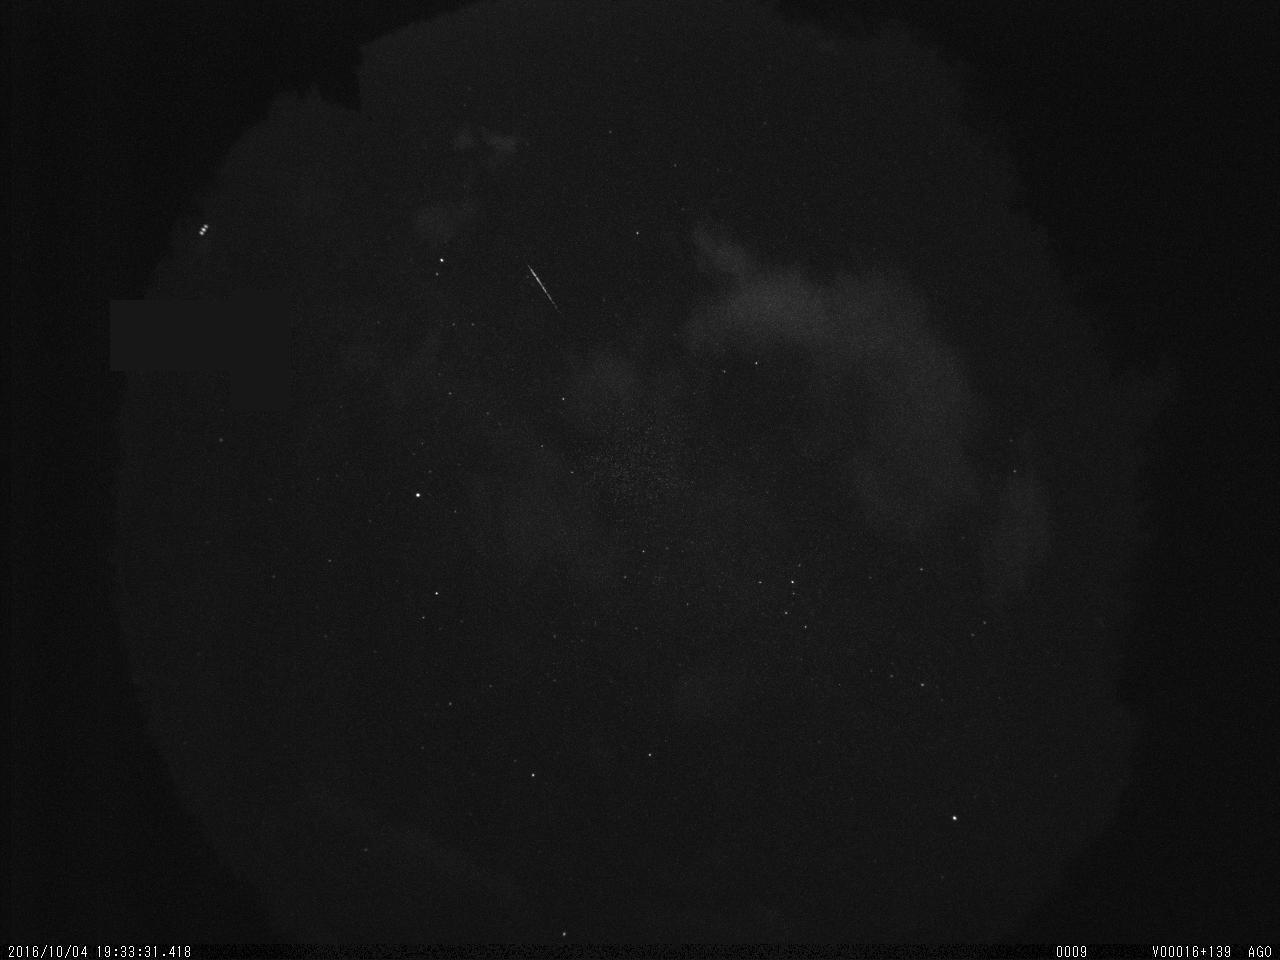meteor: (513, 261, 573, 328)
